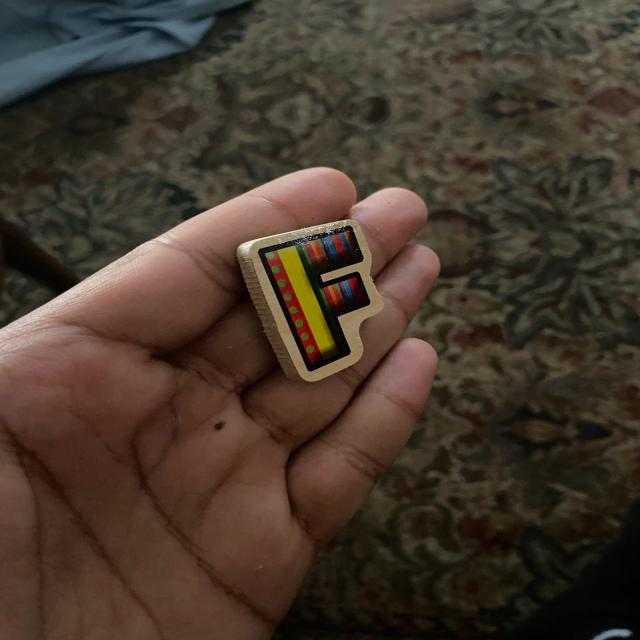F: (237, 219, 383, 381)
